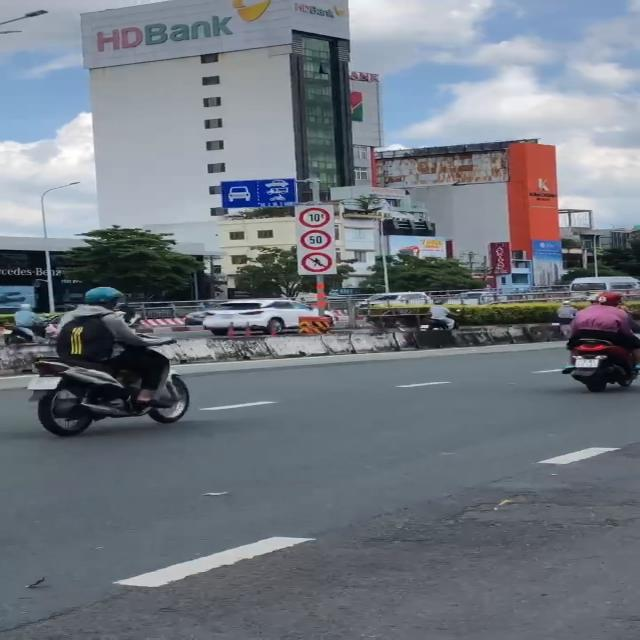Bien bao cam nguoi di bo: (299, 252, 335, 274)
Bien bao toc do toi da cho phep: (297, 228, 332, 252)
